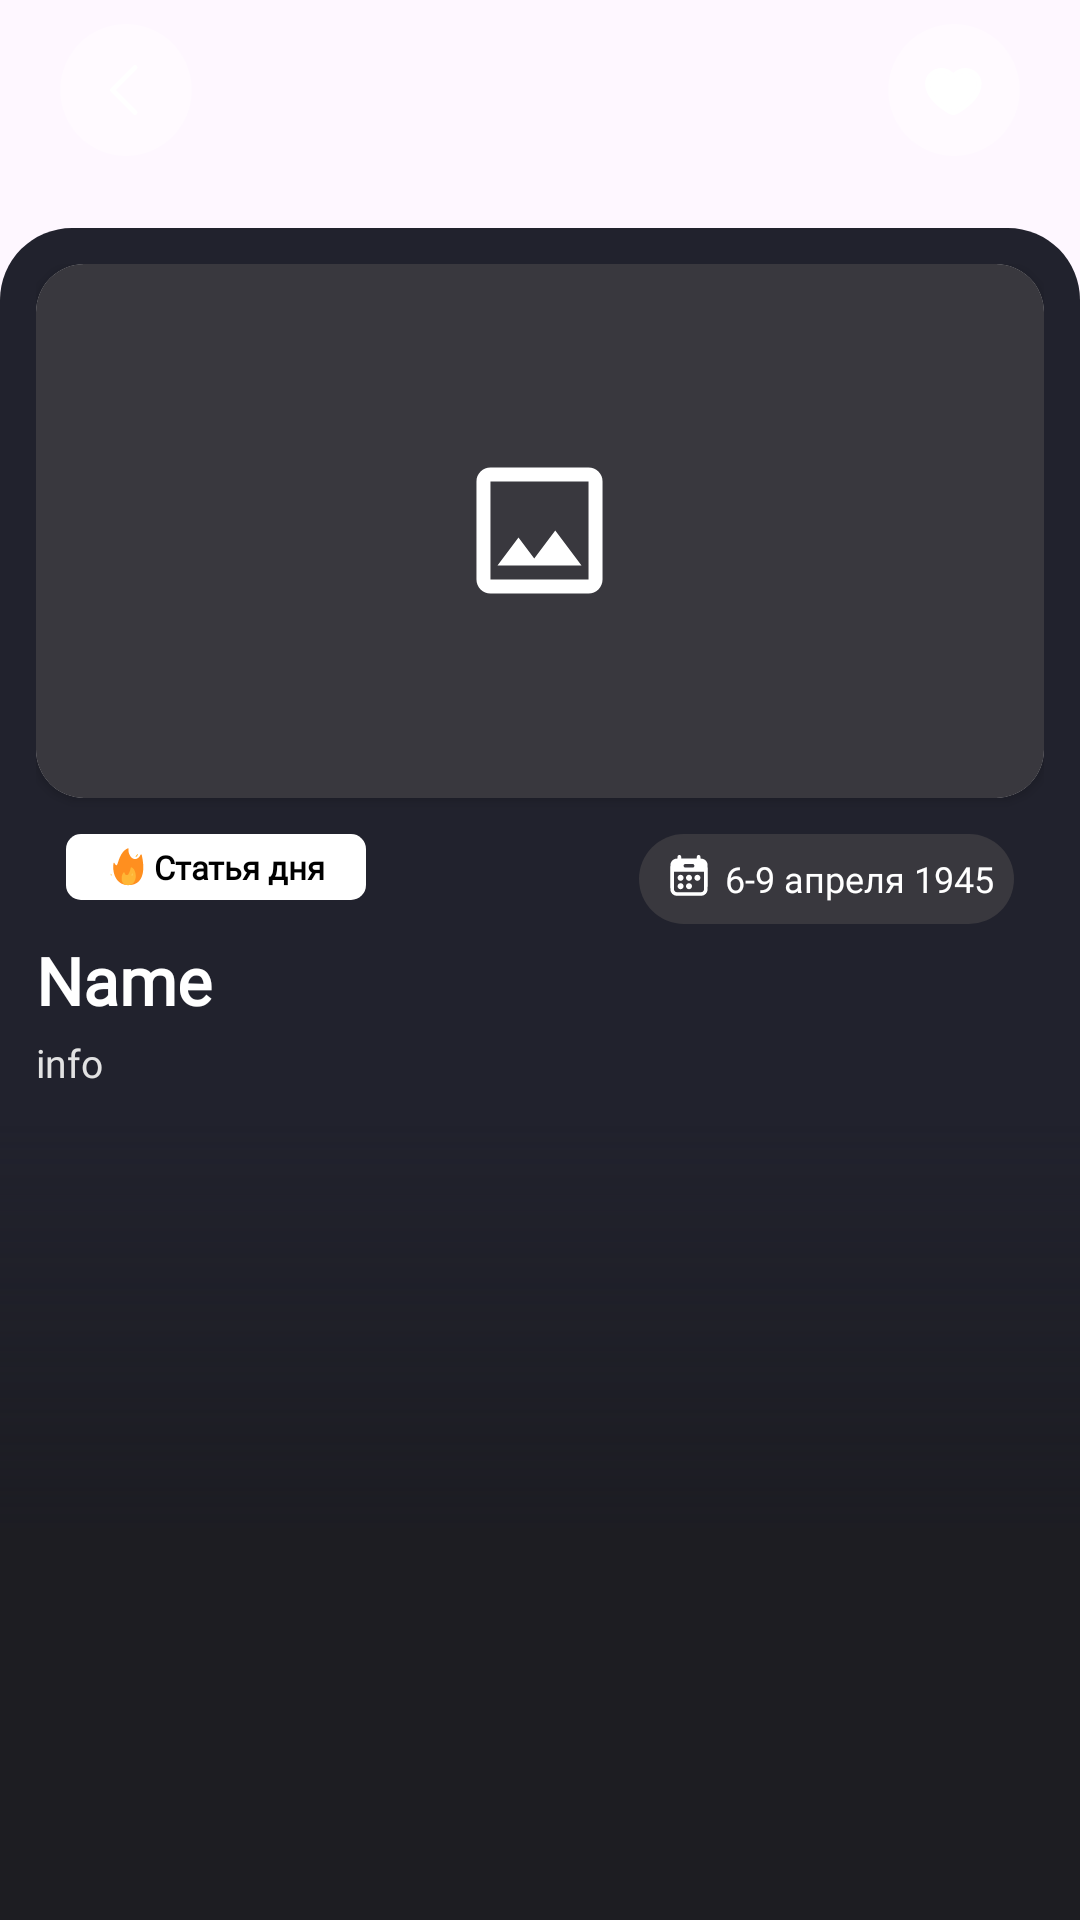

Screen size 1080px×1920px. Icon name, then its box in pixels as (x1, y1, x2, y2):
date: (670, 855, 708, 896)
empty photo: (476, 467, 603, 594)
fire: (110, 848, 144, 886)
